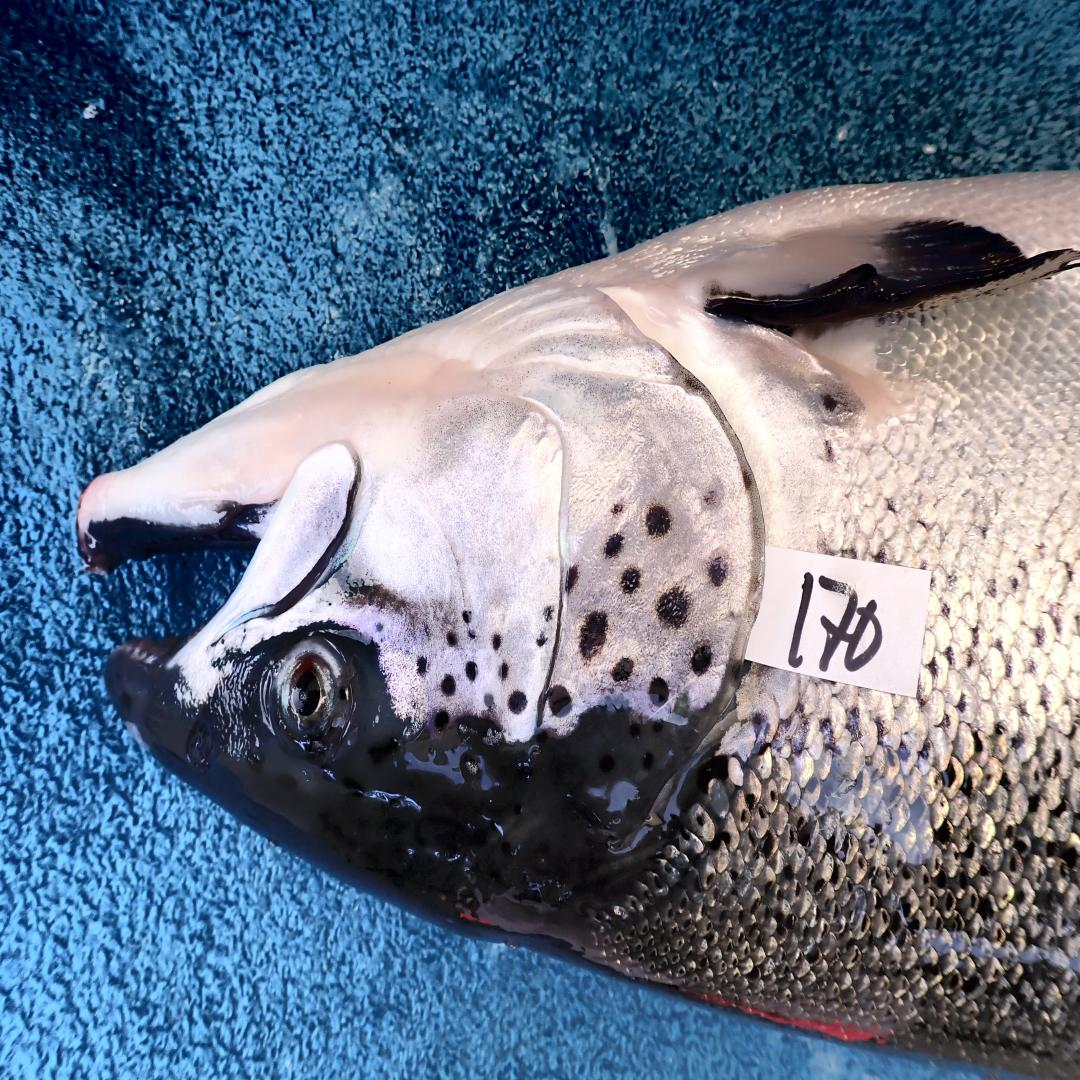spot: (580, 610, 608, 658), (656, 588, 690, 627), (645, 503, 671, 537), (546, 683, 572, 717), (690, 641, 713, 675), (648, 678, 669, 706), (612, 658, 635, 683), (709, 557, 728, 585), (620, 568, 641, 593), (603, 532, 624, 557), (508, 689, 527, 714), (703, 487, 719, 510), (565, 565, 578, 593), (441, 675, 456, 695), (434, 710, 449, 730), (420, 622, 435, 638), (466, 661, 477, 681), (544, 605, 555, 622), (491, 633, 502, 650), (447, 630, 458, 647), (418, 655, 426, 675), (483, 695, 494, 709), (466, 624, 477, 638), (373, 619, 384, 633), (612, 503, 624, 515), (536, 633, 546, 647), (500, 664, 508, 681), (462, 610, 470, 624)
